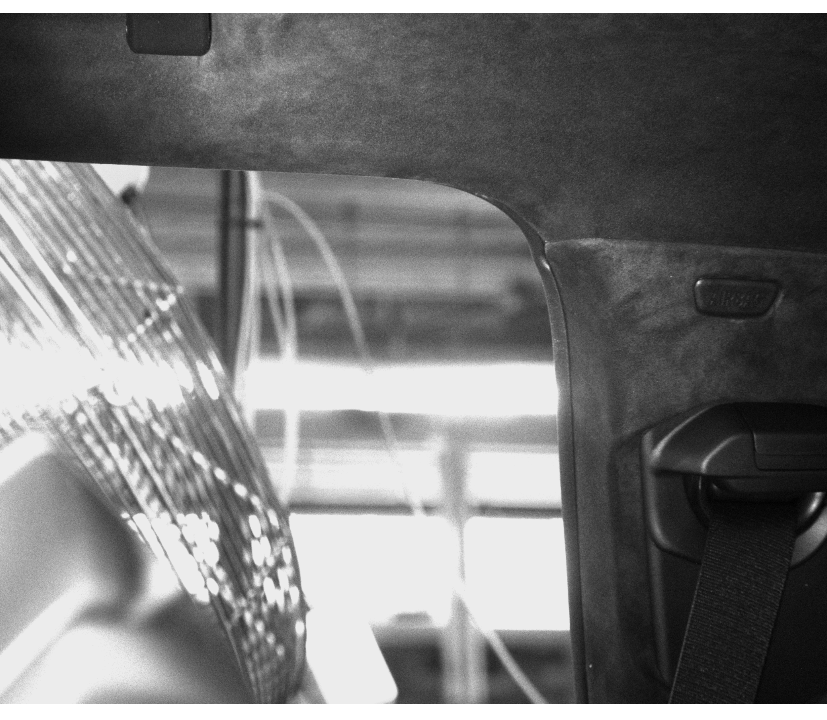camerafault: (663, 253, 790, 335)
